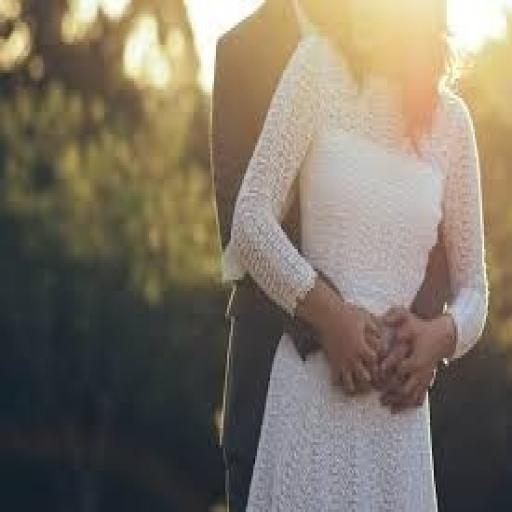hugging: (210, 0, 492, 509)
